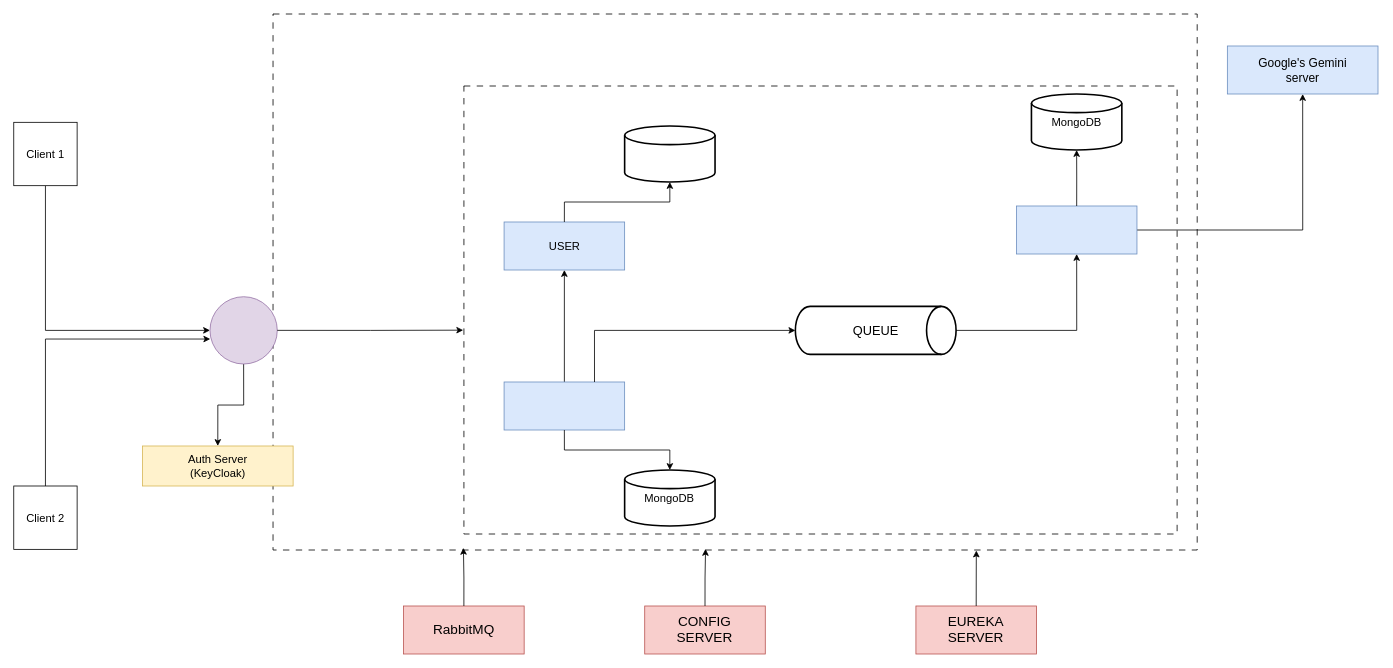
The diagram is 1393 pixels wide and 668 high, and some of its shapes have lost their labels. Each missing label, with the box of its shape:
ACTIVITY: (503, 381, 625, 430)
AI Service: (1016, 205, 1137, 254)
API GATEWAY: (209, 296, 277, 364)
MySQL: (623, 125, 715, 182)
